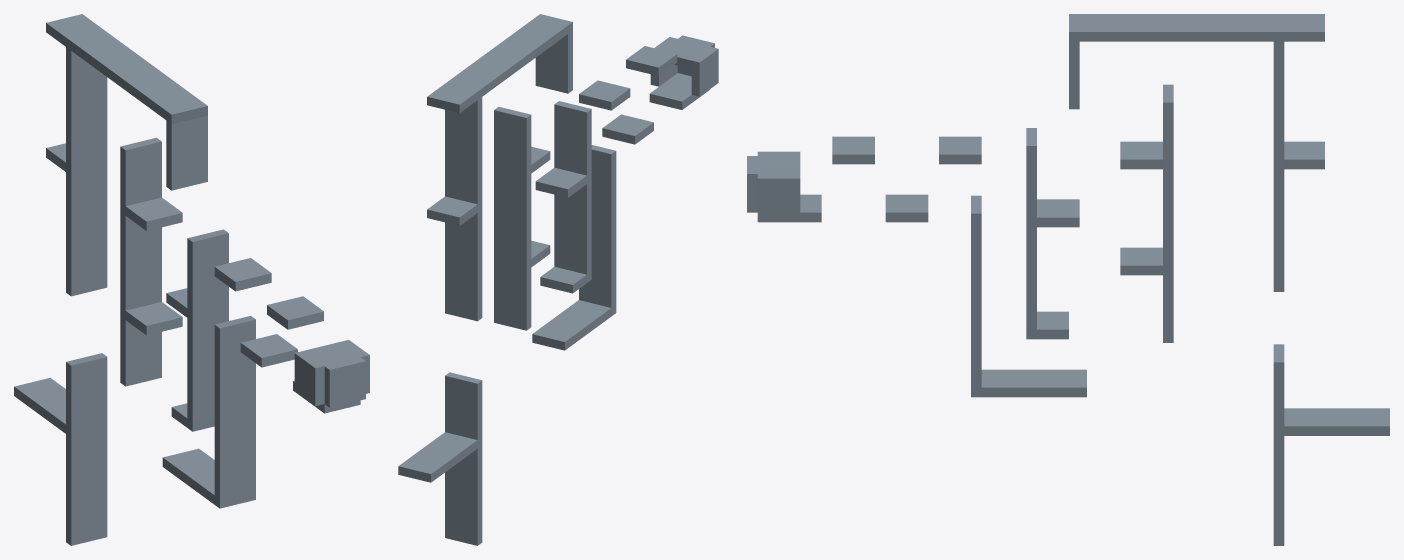
The model's file is map.OBJ.
3 renders of one model, left to right at view 1: azimuth 30°, elevation 25°; view 2: azimuth 150°, elevation 25°; view 3: azimuth 270°, elevation 25°, orthographic. The views are drawn at different scales.
Parts seen in each view (by area): view 1: Cube21, Cube22_96, Cube11, Cube10, Cube17, Cube14, Cube18, Cube16_91, Cube3, Cube13, Cube24, Cube5 (+8 smaller); view 2: Cube21, Cube14, Cube10, Cube22_96, Cube17, Cube11, Cube13, Cube24, Cube16_91, Cube18, Cube5, Cube9 (+9 smaller); view 3: Cube17, Cube13, Cube21, Cube24, Cube22_96, Cube11, Cube10, Cube14, Cube4_64, Cube8, Cube12, Cube7 (+8 smaller).
Part boxes in pixels (x1,y1,x2,y2): Cube21: [66, 46, 107, 296]; Cube22_96: [66, 353, 107, 545]; Cube11: [214, 316, 255, 508]; Cube10: [187, 229, 228, 422]; Cube17: [46, 14, 207, 123]; Cube14: [120, 203, 161, 386]; Cube18: [166, 115, 207, 190]; Cube16_91: [120, 137, 161, 206]; Cube3: [324, 357, 365, 407]; Cube13: [162, 448, 214, 504]; Cube24: [14, 377, 66, 433]; Cube5: [294, 351, 324, 406]; Cube21: [445, 96, 482, 321]; Cube14: [494, 160, 531, 330]; Cube10: [554, 101, 591, 274]; Cube22_96: [445, 372, 482, 545]; Cube17: [427, 14, 572, 113]; Cube11: [579, 145, 616, 316]; Cube13: [532, 300, 611, 350]; Cube24: [398, 432, 477, 482]; Cube16_91: [494, 107, 531, 168]; Cube18: [535, 30, 572, 93]; Cube5: [691, 47, 718, 96]; Cube9: [579, 80, 630, 110]; Cube17: [1069, 14, 1324, 41]; Cube13: [980, 369, 1086, 397]; Cube21: [1273, 41, 1284, 291]; Cube24: [1283, 408, 1389, 435]; Cube22_96: [1273, 344, 1284, 545]; Cube11: [971, 195, 981, 397]; Cube10: [1026, 128, 1036, 329]; Cube14: [1163, 159, 1173, 342]; Cube4_64: [757, 174, 800, 217]; Cube8: [885, 194, 928, 222]; Cube12: [1037, 199, 1079, 227]; Cube7: [832, 136, 874, 164].
Size of the model in its own units: 150 by 1330 by 1507.
